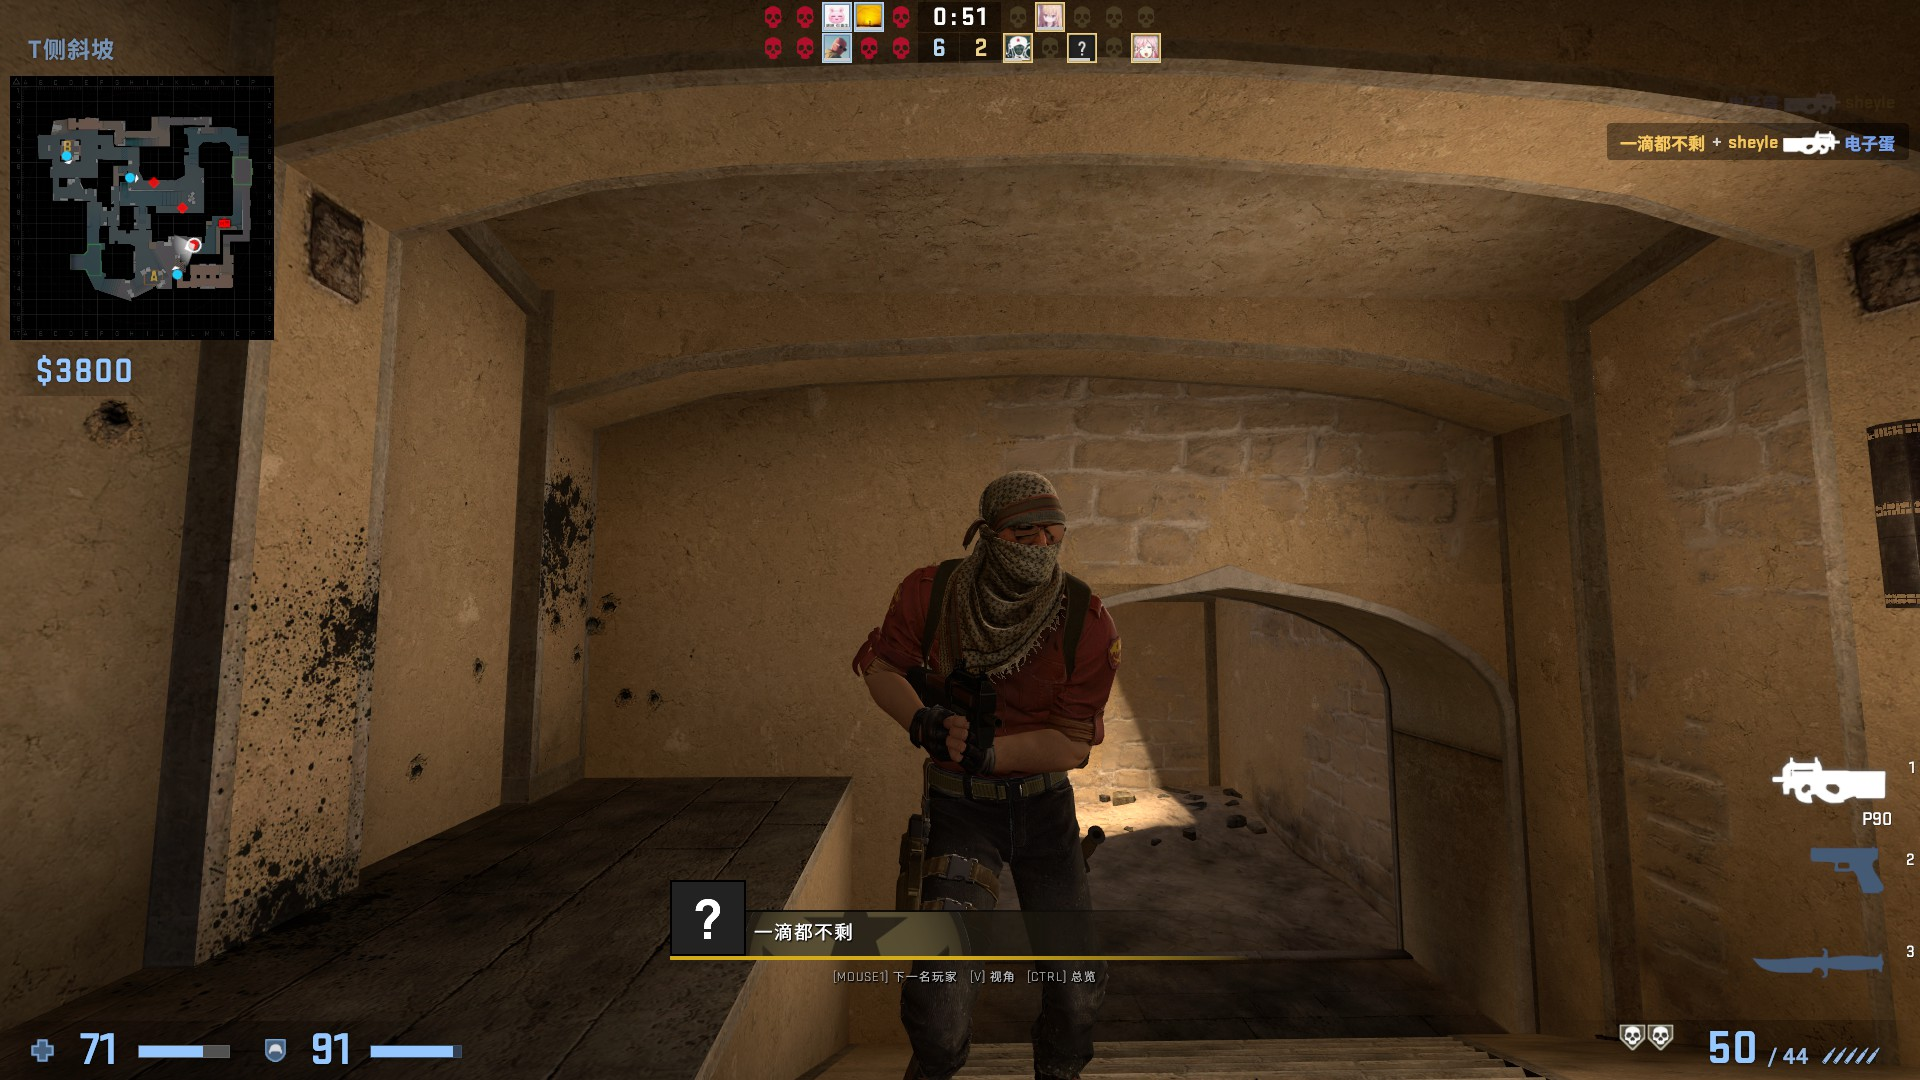head: (960, 468, 1072, 593)
